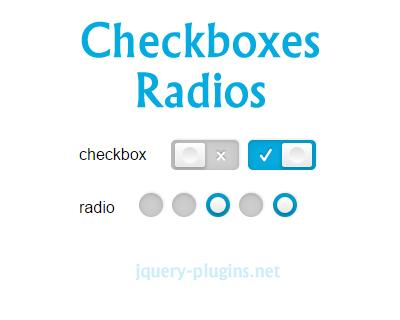checkbox: (167, 138, 240, 173), (245, 139, 320, 173)
radiobutton: (204, 188, 235, 223), (135, 190, 166, 220)
